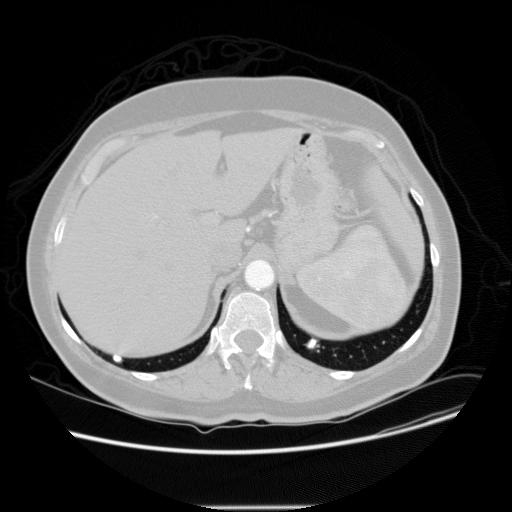nodule: (109, 351, 123, 365)
